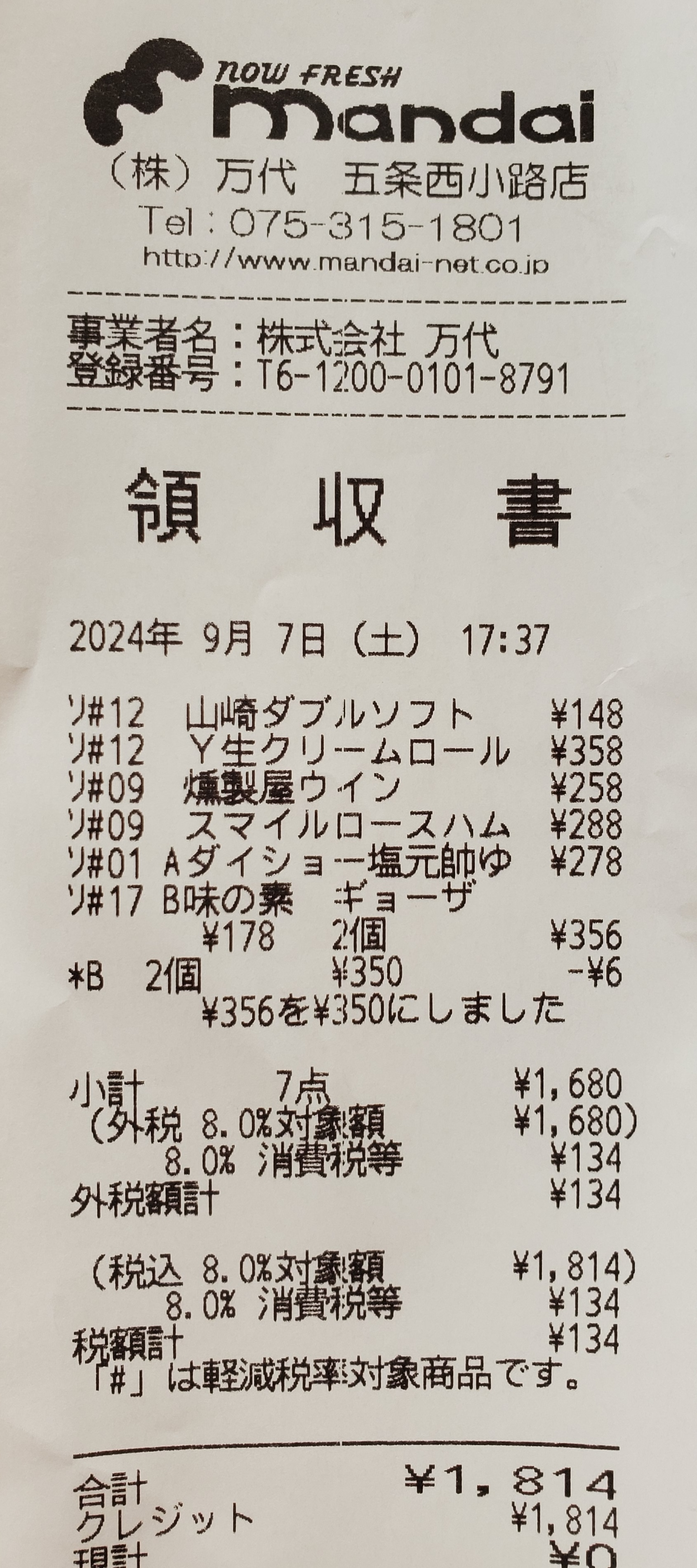Date: (51, 606, 342, 666)
Shopname: (203, 33, 629, 152)
Telnum: (223, 198, 539, 246)
Totalpay: (68, 1464, 636, 1505)
